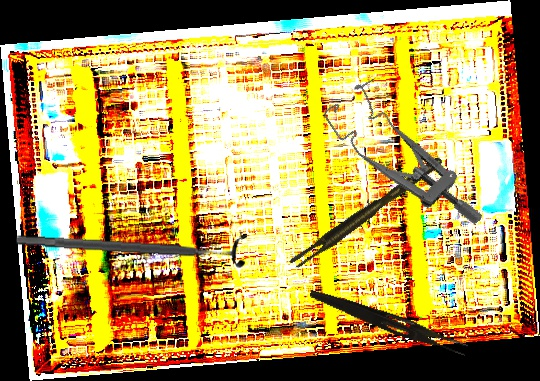Dressing Forceps: (306, 287, 471, 357)
Fixation Ring: (15, 222, 247, 269)
Speculum: (319, 66, 486, 261)
Tissue Forceps: (285, 156, 449, 271)
